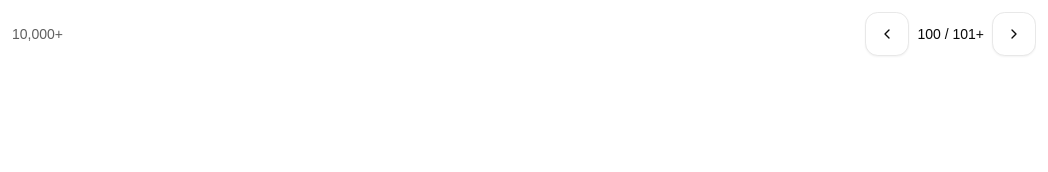
Test: shows the page count of a capped total as a lower bound in compact mode
Expected: the text "10,000+" is shown, [12,24,63,44]
Expected: the text "100 / 101+" is shown, [917,24,984,44]
Click the button named "Go to next page" at (1014,34), box [992,12,1036,56]
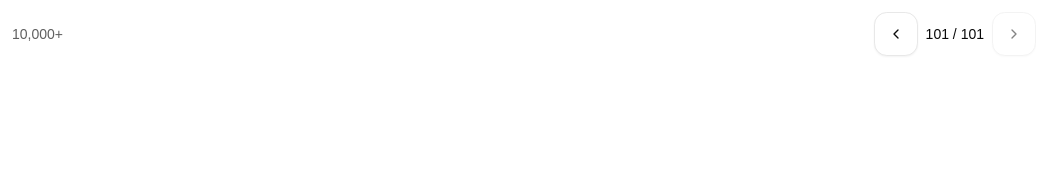
Now the text "101 / 101" is shown, box [926,24,984,44]
